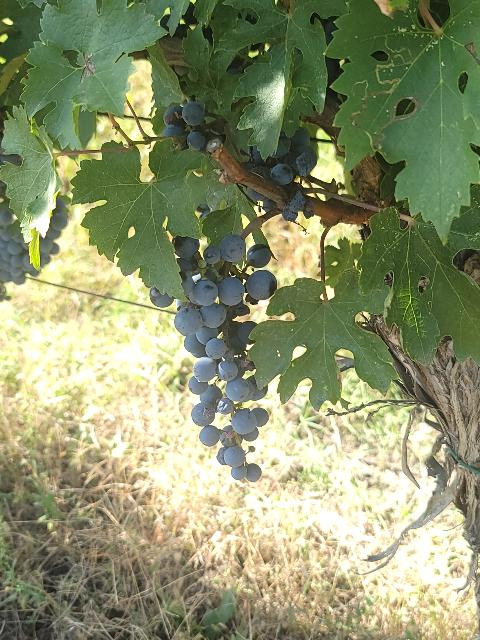grapes: (172, 234, 278, 481)
